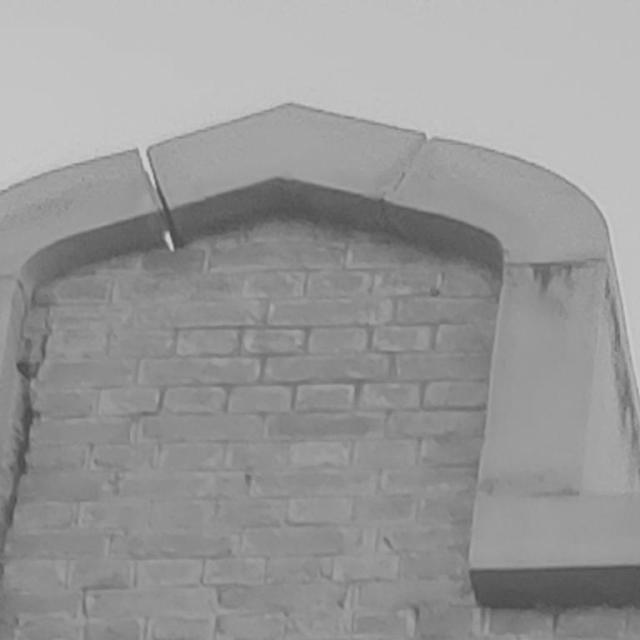crack: (6, 304, 52, 527)
